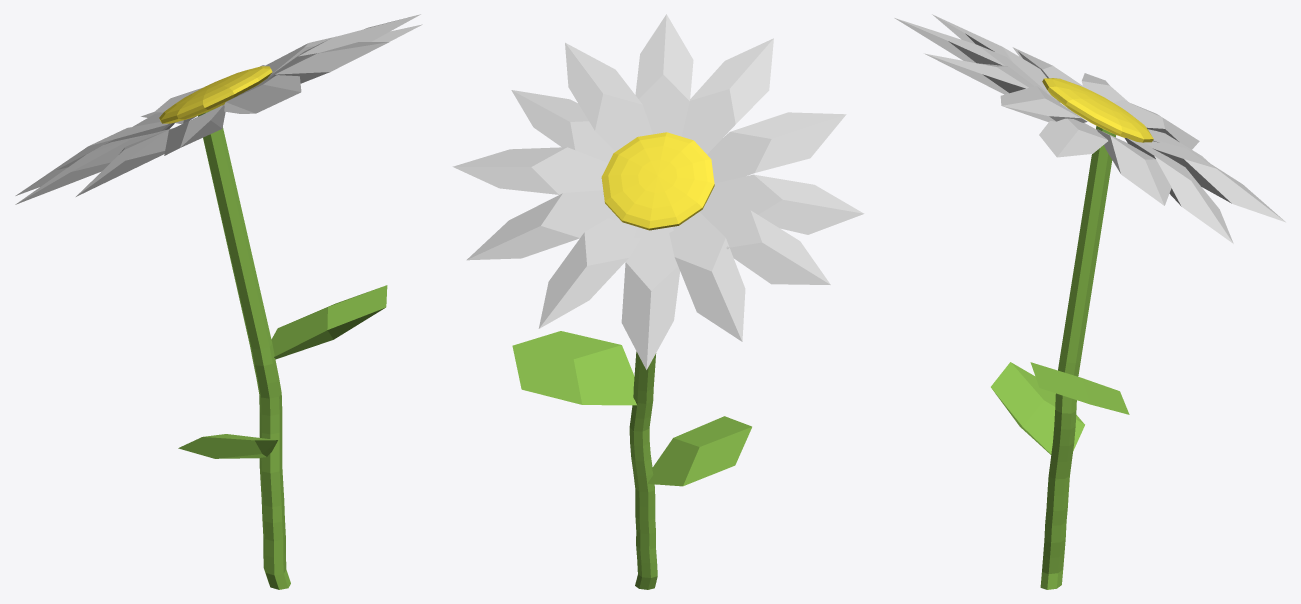
3 views of the same model, side by side, from view 1: azimuth 30°, elevation 25°; view 2: azimuth 150°, elevation 25°; view 3: azimuth 270°, elevation 25° (orthographic). The views are drawn at different scales.
Visible parts, largest first — view 1: mesh_690713642, mesh_1076619452, mesh_1358636914, mesh_1196356005, mesh_36735226, mesh_581852294, mesh_44516248, mesh_1490570510, mesh_690322071, mesh_1458479134, mesh_1581750311; view 2: mesh_1358636914, mesh_1076619452, mesh_1530120458, mesh_1581750311, mesh_690322071, mesh_44516248, mesh_1490570510, mesh_1196356005, mesh_703513897, mesh_207776296, mesh_94017093, mesh_1458479134 (+4 smaller); view 3: mesh_690713642, mesh_36735226, mesh_1358636914, mesh_94017093, mesh_703513897, mesh_207776296, mesh_1076619452, mesh_1024724645, mesh_44516248, mesh_1458479134, mesh_581852294, mesh_690322071 (+3 smaller).
Boxes of the visible parts, x1,y1,x2,y2 form: mesh_690713642: (198, 109, 290, 589); mesh_1076619452: (271, 285, 387, 359); mesh_1358636914: (159, 66, 272, 123); mesh_1196356005: (15, 128, 172, 204); mesh_36735226: (178, 434, 277, 458); mesh_581852294: (269, 42, 389, 83); mesh_44516248: (224, 75, 301, 113); mesh_1490570510: (76, 130, 168, 196); mesh_690322071: (164, 105, 225, 155); mesh_1458479134: (260, 14, 420, 83); mesh_1581750311: (15, 122, 171, 195); mesh_1358636914: (601, 132, 714, 230); mesh_1076619452: (512, 331, 636, 405); mesh_1530120458: (621, 227, 680, 369); mesh_1581750311: (669, 212, 745, 341); mesh_690322071: (707, 112, 846, 183); mesh_44516248: (682, 38, 773, 154); mesh_1490570510: (706, 174, 864, 234); mesh_1196356005: (700, 203, 830, 284); mesh_703513897: (466, 190, 618, 260); mesh_207776296: (452, 147, 608, 194); mesh_94017093: (538, 218, 640, 328); mesh_1458479134: (565, 42, 652, 151); mesh_690713642: (1040, 126, 1115, 589); mesh_36735226: (991, 362, 1084, 454); mesh_1358636914: (1042, 78, 1153, 142); mesh_94017093: (1144, 141, 1285, 222); mesh_703513897: (1124, 138, 1233, 243); mesh_207776296: (1096, 129, 1171, 205); mesh_1076619452: (1030, 362, 1129, 414); mesh_1024724645: (1039, 118, 1107, 157); mesh_44516248: (894, 18, 1046, 92); mesh_1458479134: (1000, 86, 1087, 122); mesh_581852294: (924, 53, 1033, 94); mesh_690322071: (932, 14, 1058, 101).
Size of the model in its own units: 14.49 by 20.51 by 13.22.
